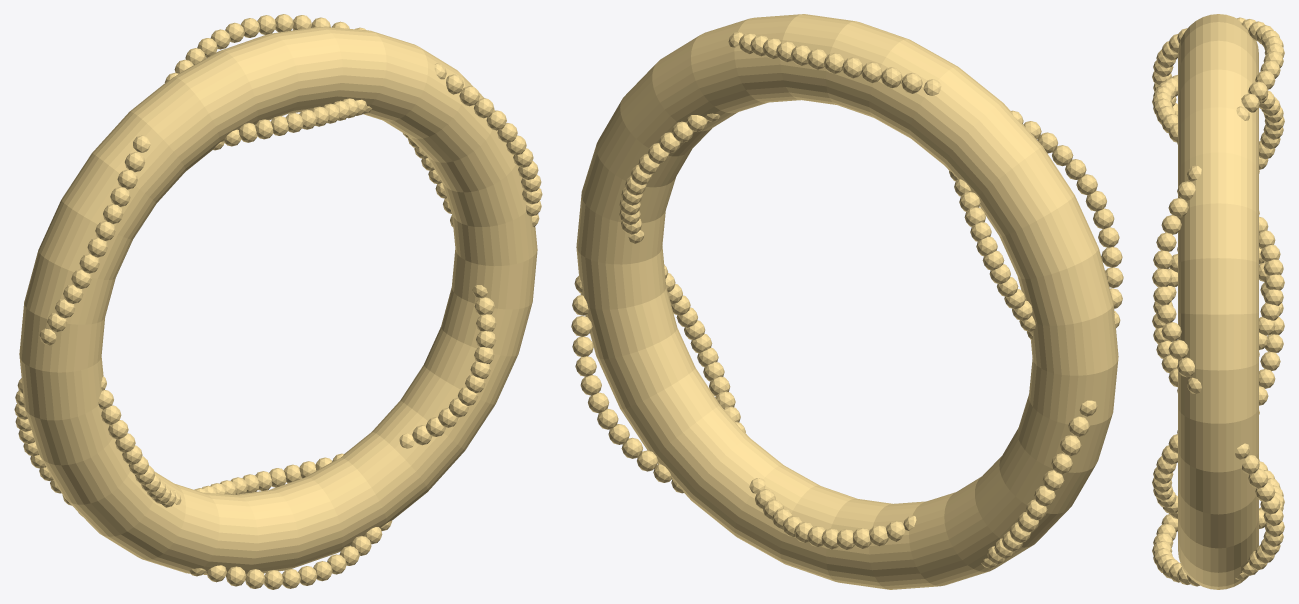
File: ring_filigree_helix.glb
The picture shows the model from 3 angles, left to right: view 1: azimuth 30°, elevation 25°; view 2: azimuth 150°, elevation 25°; view 3: azimuth 270°, elevation 25°; orthographic projection. The views are drawn at different scales.
Parts seen in each view (by area): view 1: world; view 2: world; view 3: world.
Boxes of the visible parts, bbox=[...] form: world: bbox=[14, 14, 542, 589]; world: bbox=[571, 14, 1123, 589]; world: bbox=[1152, 14, 1284, 589].
Bounding box in the file's own units: 0.0256 × 0.0256 × 0.0059.
